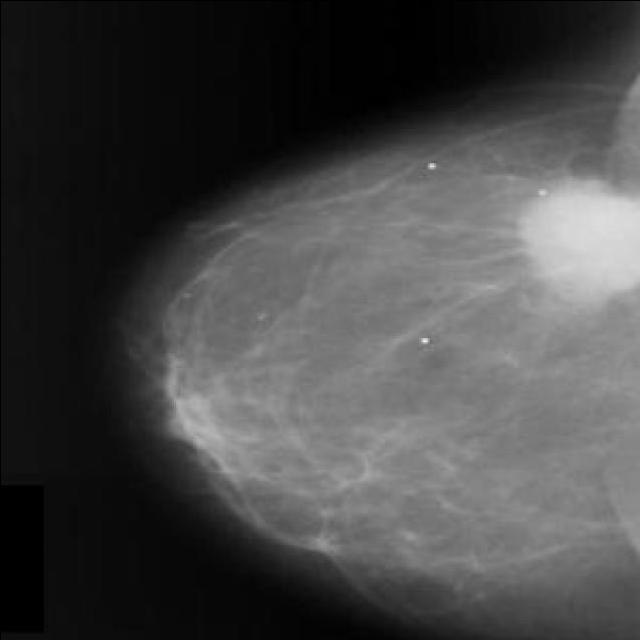tumor: (512, 161, 640, 319), (156, 349, 227, 464)
